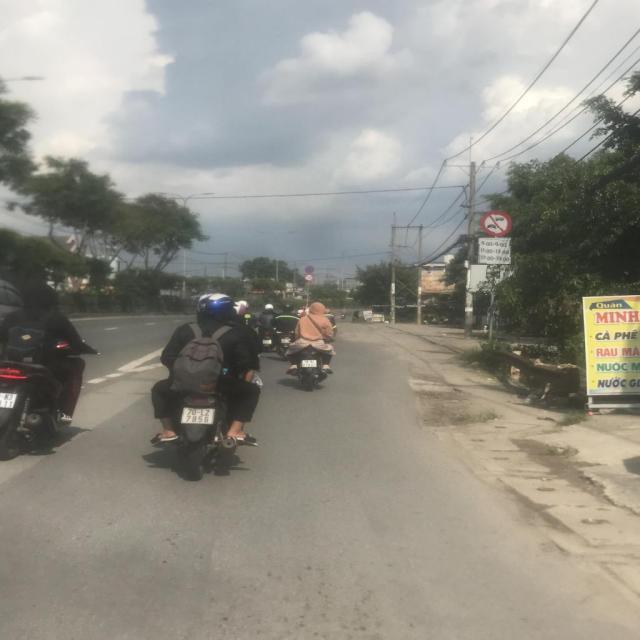107-cam-oto-khach-va-oto-tai: (480, 210, 512, 236)
